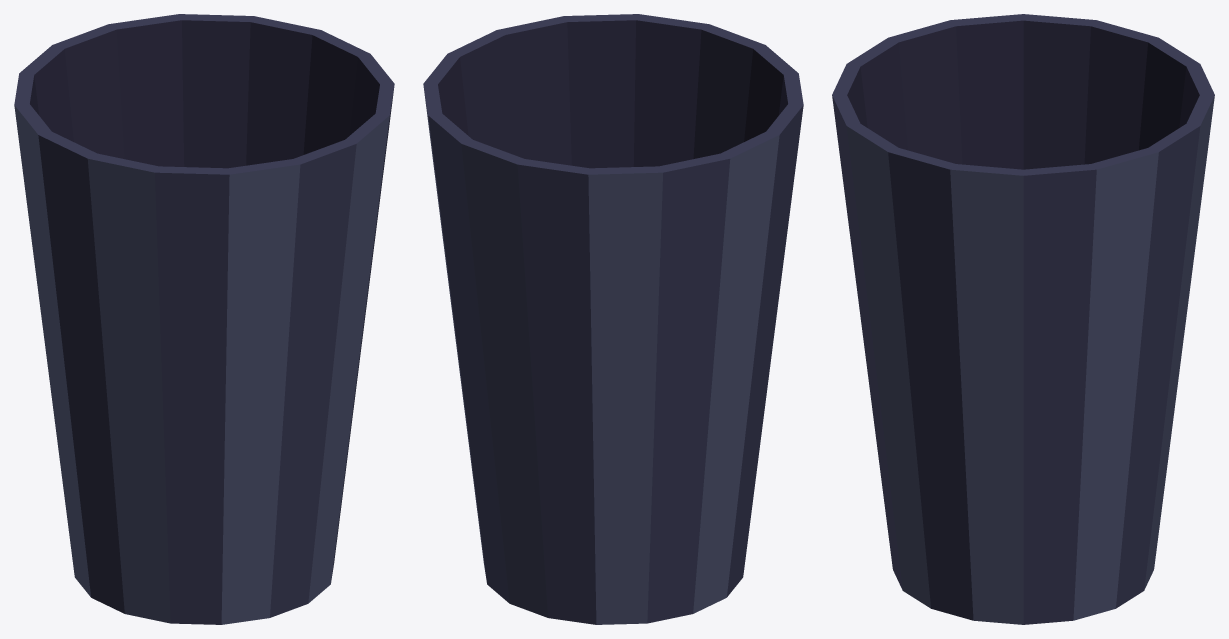
Rendered from f_trashcan.fbx.
The picture shows the model from 3 angles, left to right: view 1: azimuth 30°, elevation 25°; view 2: azimuth 150°, elevation 25°; view 3: azimuth 270°, elevation 25°; orthographic projection.
Parts seen in each view (by area): view 1: f_trashcan; view 2: f_trashcan; view 3: f_trashcan.
Boxes of the visible parts, x1=… form: f_trashcan: x1=14, y1=14, x2=394, y2=624; f_trashcan: x1=423, y1=14, x2=803, y2=624; f_trashcan: x1=832, y1=14, x2=1214, y2=624.
Size of the model in its own units: 66.18 by 66.18 by 90.55.
